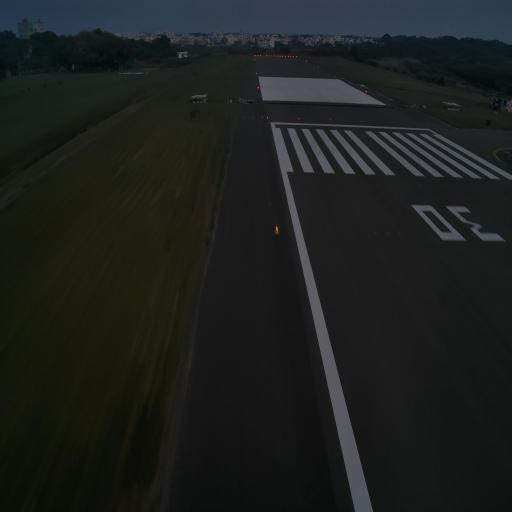off: (386, 227, 390, 240), (396, 230, 402, 238), (373, 229, 377, 238)
on: (275, 223, 280, 237)
